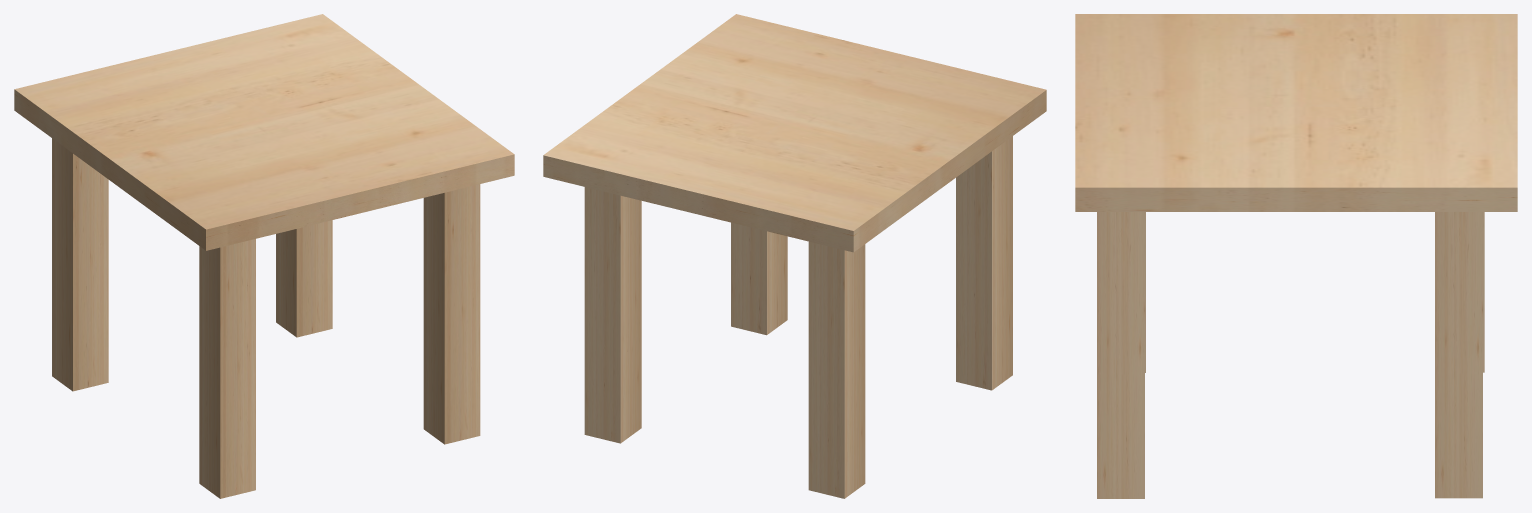
File: mesa.obj
3 renders of one model, left to right at view 1: azimuth 30°, elevation 25°; view 2: azimuth 150°, elevation 25°; view 3: azimuth 270°, elevation 25°, orthographic. The views are drawn at different scales.
Parts seen in each view (by area): view 1: tabla_Cubo, Pata.003_Cubo.002, Pata_Cubo.001, Pata.001_Cubo.004, Pata.002_Cubo.003; view 2: tabla_Cubo, Pata.001_Cubo.004, Pata.002_Cubo.003, Pata_Cubo.001, Pata.003_Cubo.002; view 3: tabla_Cubo, Pata.003_Cubo.002, Pata.002_Cubo.003.
Boxes of the visible parts, x1,y1,x2,y2 form: tabla_Cubo: [14, 14, 514, 250]; Pata.003_Cubo.002: [423, 184, 480, 444]; Pata_Cubo.001: [199, 239, 255, 498]; Pata.001_Cubo.004: [52, 138, 108, 391]; Pata.002_Cubo.003: [276, 220, 332, 337]; tabla_Cubo: [543, 14, 1046, 252]; Pata.001_Cubo.004: [808, 241, 865, 498]; Pata.002_Cubo.003: [584, 187, 641, 443]; Pata_Cubo.001: [956, 136, 1012, 390]; Pata.003_Cubo.002: [731, 222, 787, 335]; tabla_Cubo: [1075, 14, 1517, 211]; Pata.003_Cubo.002: [1097, 212, 1144, 498]; Pata.002_Cubo.003: [1435, 212, 1482, 498].
Bounding box in the file's own units: 2.31 × 2.02 × 2.49.
